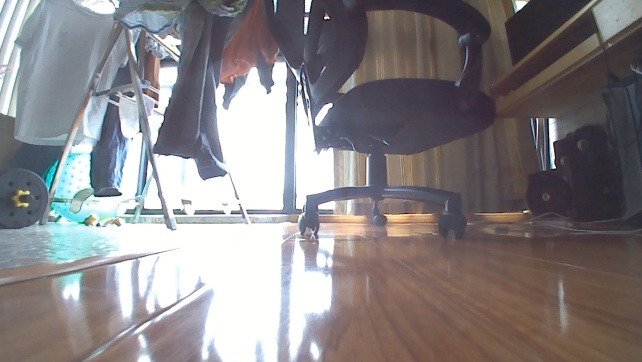wire: (599, 46, 641, 151), (463, 209, 622, 228)
